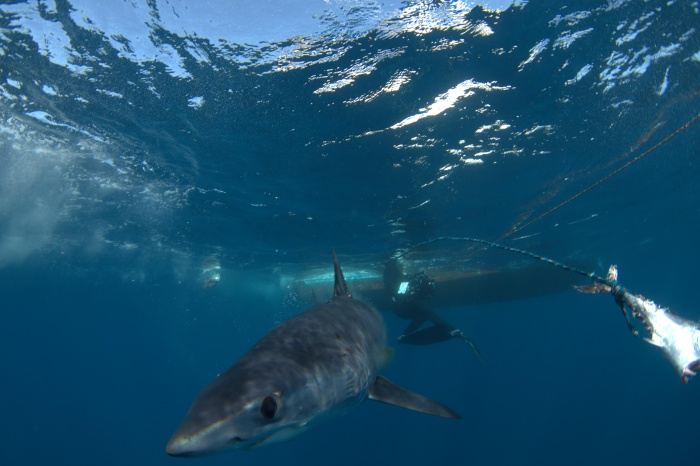Mako: (162, 236, 472, 461)
